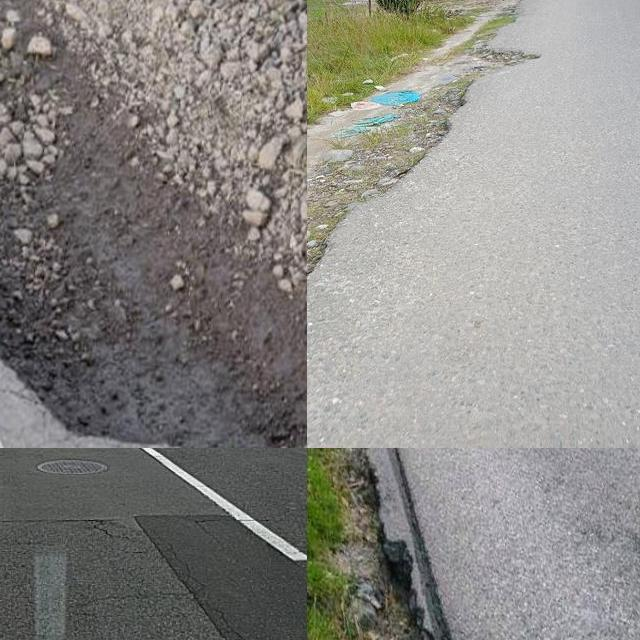Pinggir: (0, 0, 307, 448), (307, 18, 580, 330), (335, 448, 474, 640)
Sambungan: (136, 511, 307, 640)
